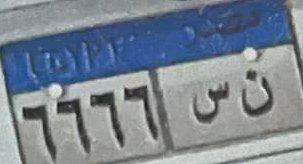6: (19, 90, 55, 161), (52, 91, 87, 164), (92, 74, 121, 159), (126, 73, 155, 153)
س: (185, 72, 231, 130)
ن: (232, 56, 281, 121)
